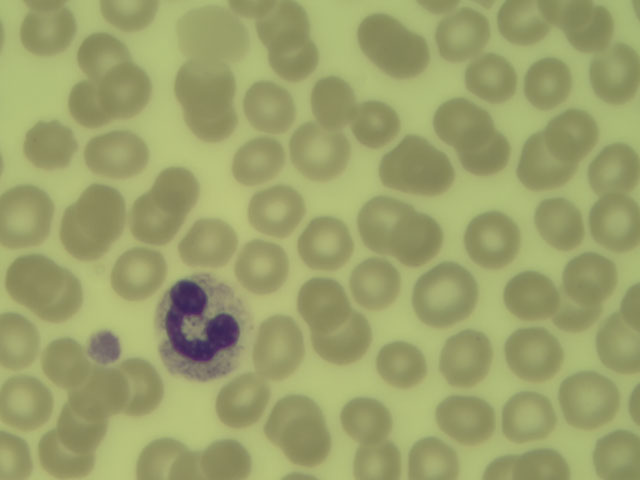Platelets: (85, 332, 124, 367)
RBC: (377, 141, 461, 194), (35, 425, 98, 480), (1, 182, 54, 246), (181, 6, 241, 62), (253, 315, 306, 378), (86, 129, 149, 178), (404, 427, 462, 480), (289, 126, 351, 175), (517, 135, 571, 191), (463, 212, 521, 264), (310, 316, 368, 368), (527, 197, 585, 249), (500, 268, 558, 320), (560, 375, 618, 427), (500, 390, 558, 442), (504, 328, 562, 380), (436, 388, 494, 440), (439, 331, 497, 383), (372, 338, 430, 390), (415, 267, 473, 319), (295, 220, 352, 271), (359, 198, 416, 248), (173, 58, 232, 106), (216, 374, 270, 425), (589, 427, 640, 480), (117, 359, 165, 415), (592, 193, 640, 247), (35, 271, 86, 321), (269, 393, 323, 440), (1, 375, 50, 426), (591, 46, 640, 97), (352, 257, 404, 305), (392, 215, 445, 262), (72, 366, 124, 413), (299, 277, 351, 324), (251, 185, 300, 234), (38, 339, 86, 389), (1, 309, 39, 372), (561, 251, 613, 297), (552, 282, 601, 329), (591, 323, 640, 370), (237, 243, 286, 289), (24, 6, 74, 51), (59, 401, 105, 448), (246, 86, 293, 127), (310, 81, 357, 122), (271, 37, 318, 78), (261, 1, 308, 42), (186, 99, 233, 140), (8, 257, 55, 298), (116, 250, 163, 291), (185, 222, 232, 263), (132, 201, 179, 242), (158, 166, 205, 207), (62, 216, 109, 257), (79, 188, 126, 229), (27, 123, 74, 164), (68, 79, 115, 120), (102, 67, 149, 108), (84, 35, 131, 76), (569, 6, 616, 47), (593, 147, 640, 188), (551, 110, 598, 151), (464, 133, 511, 174), (433, 99, 480, 140), (528, 61, 575, 102), (469, 58, 516, 99), (439, 17, 486, 58), (356, 101, 403, 142), (381, 30, 428, 71), (357, 16, 404, 57), (341, 396, 388, 437), (207, 439, 254, 480), (167, 439, 214, 480), (283, 420, 330, 461), (235, 140, 282, 181), (499, 1, 546, 41), (356, 439, 403, 479), (135, 439, 182, 479), (515, 449, 573, 480), (106, 1, 159, 30), (1, 436, 33, 478), (487, 454, 532, 480), (615, 275, 640, 319)
WBC: (151, 275, 255, 387)
